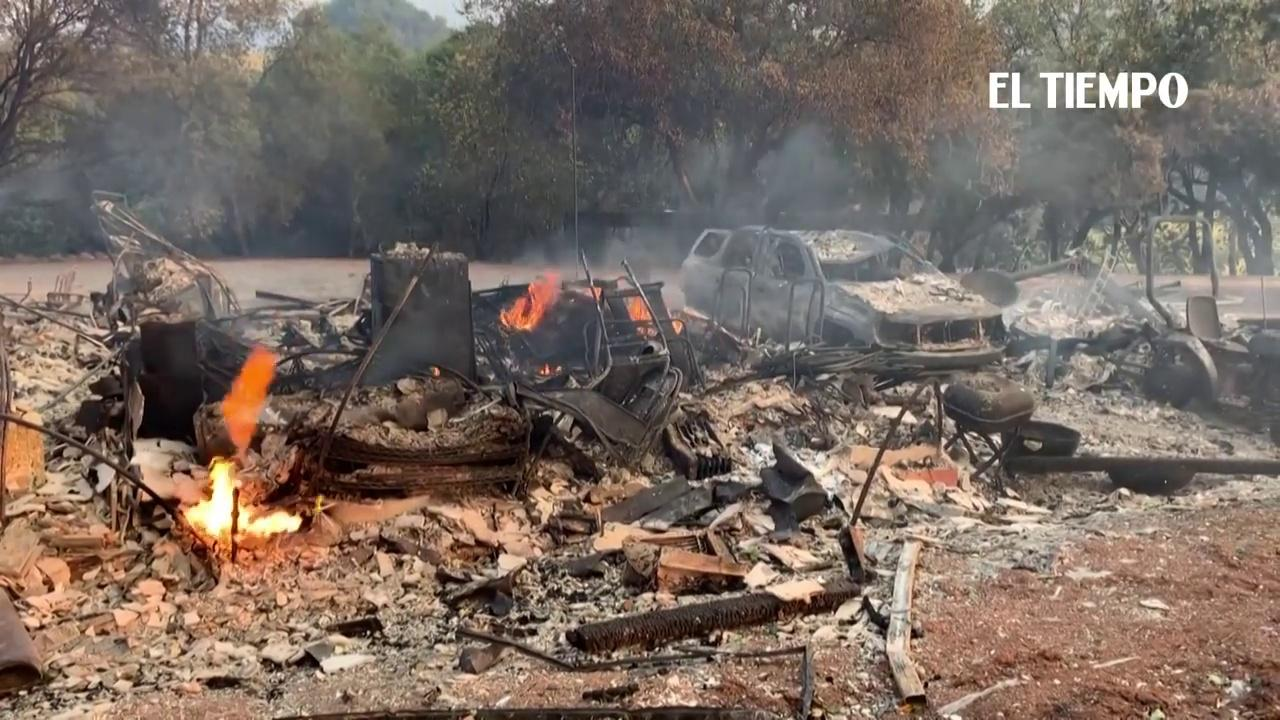Fire: (207, 350, 300, 455), (183, 464, 306, 535), (499, 269, 560, 331)
